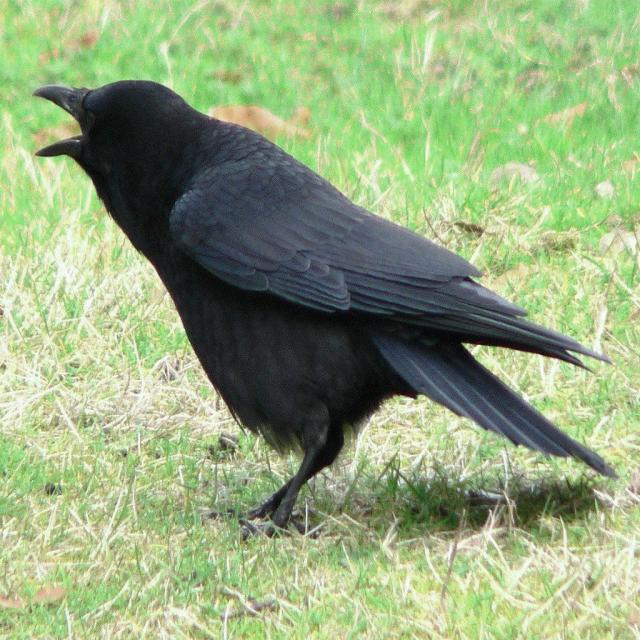crow: (35, 81, 615, 524)
